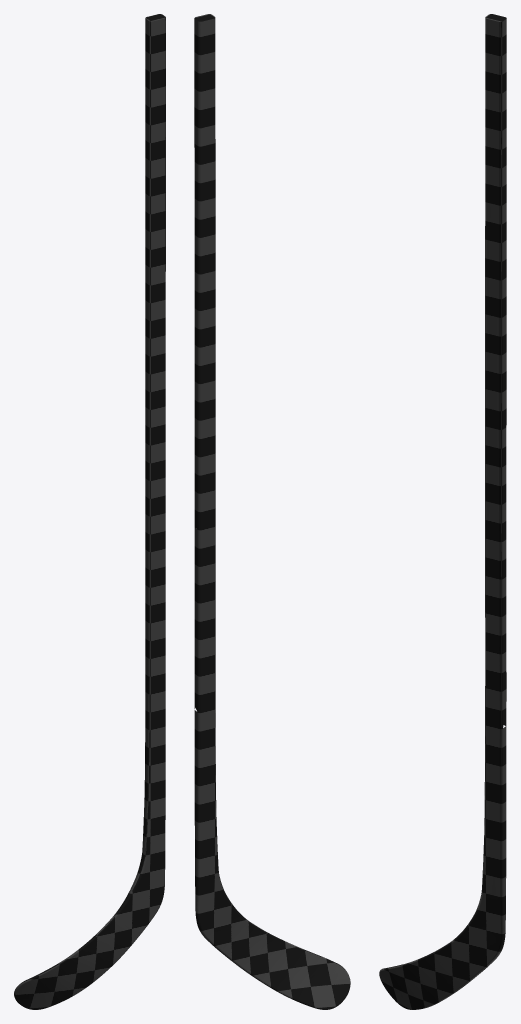
The picture shows the model from 3 angles, left to right: view 1: azimuth 30°, elevation 25°; view 2: azimuth 210°, elevation 25°; view 3: azimuth 330°, elevation 25°; orthographic projection. The views are drawn at different scales.
Visible parts, largest first — view 1: geometry_0; view 2: geometry_0; view 3: geometry_0.
Part boxes in pixels (<box>): geometry_0: <box>14,14,165,1009</box>; geometry_0: <box>194,14,350,1009</box>; geometry_0: <box>379,14,506,1009</box>.
Bounding box in the file's own units: 237 × 1650 × 65.43.
Materials: 1 (1 with a texture image).
